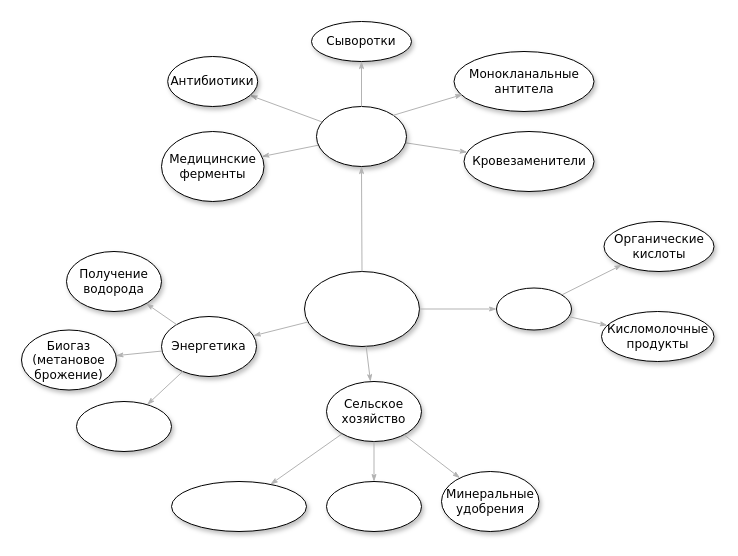
This 738x556 diagram has some shape labels left out. The centre of each missing label's shape, as x and y in pixels:
"Еда" belongs at [535,310].
"Медицина" belongs at [362,138].
"Получение спирта" belongs at [125,427].
"Промышленная биотехнология" belongs at [363,310].
"Силосные закваски" belongs at [375,507].
"Энтамопатогенные препараты" belongs at [239,507].
